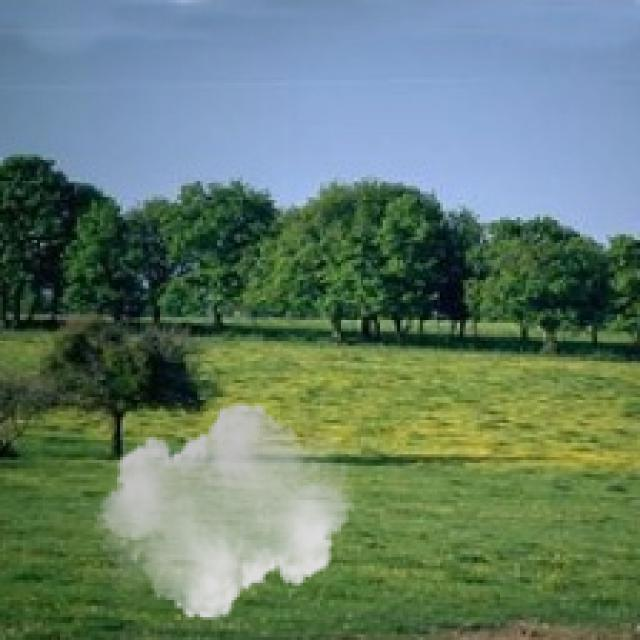smoke: (94, 394, 354, 629)
